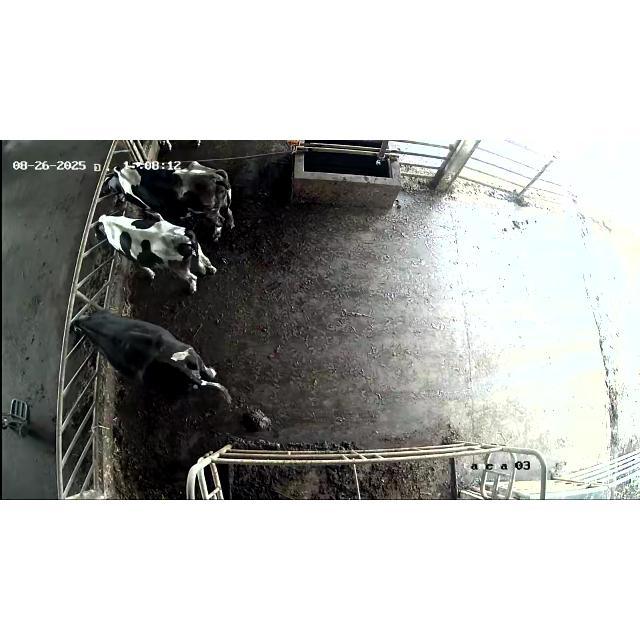eat: (78, 158, 154, 212), (46, 305, 114, 355), (66, 212, 132, 254)
